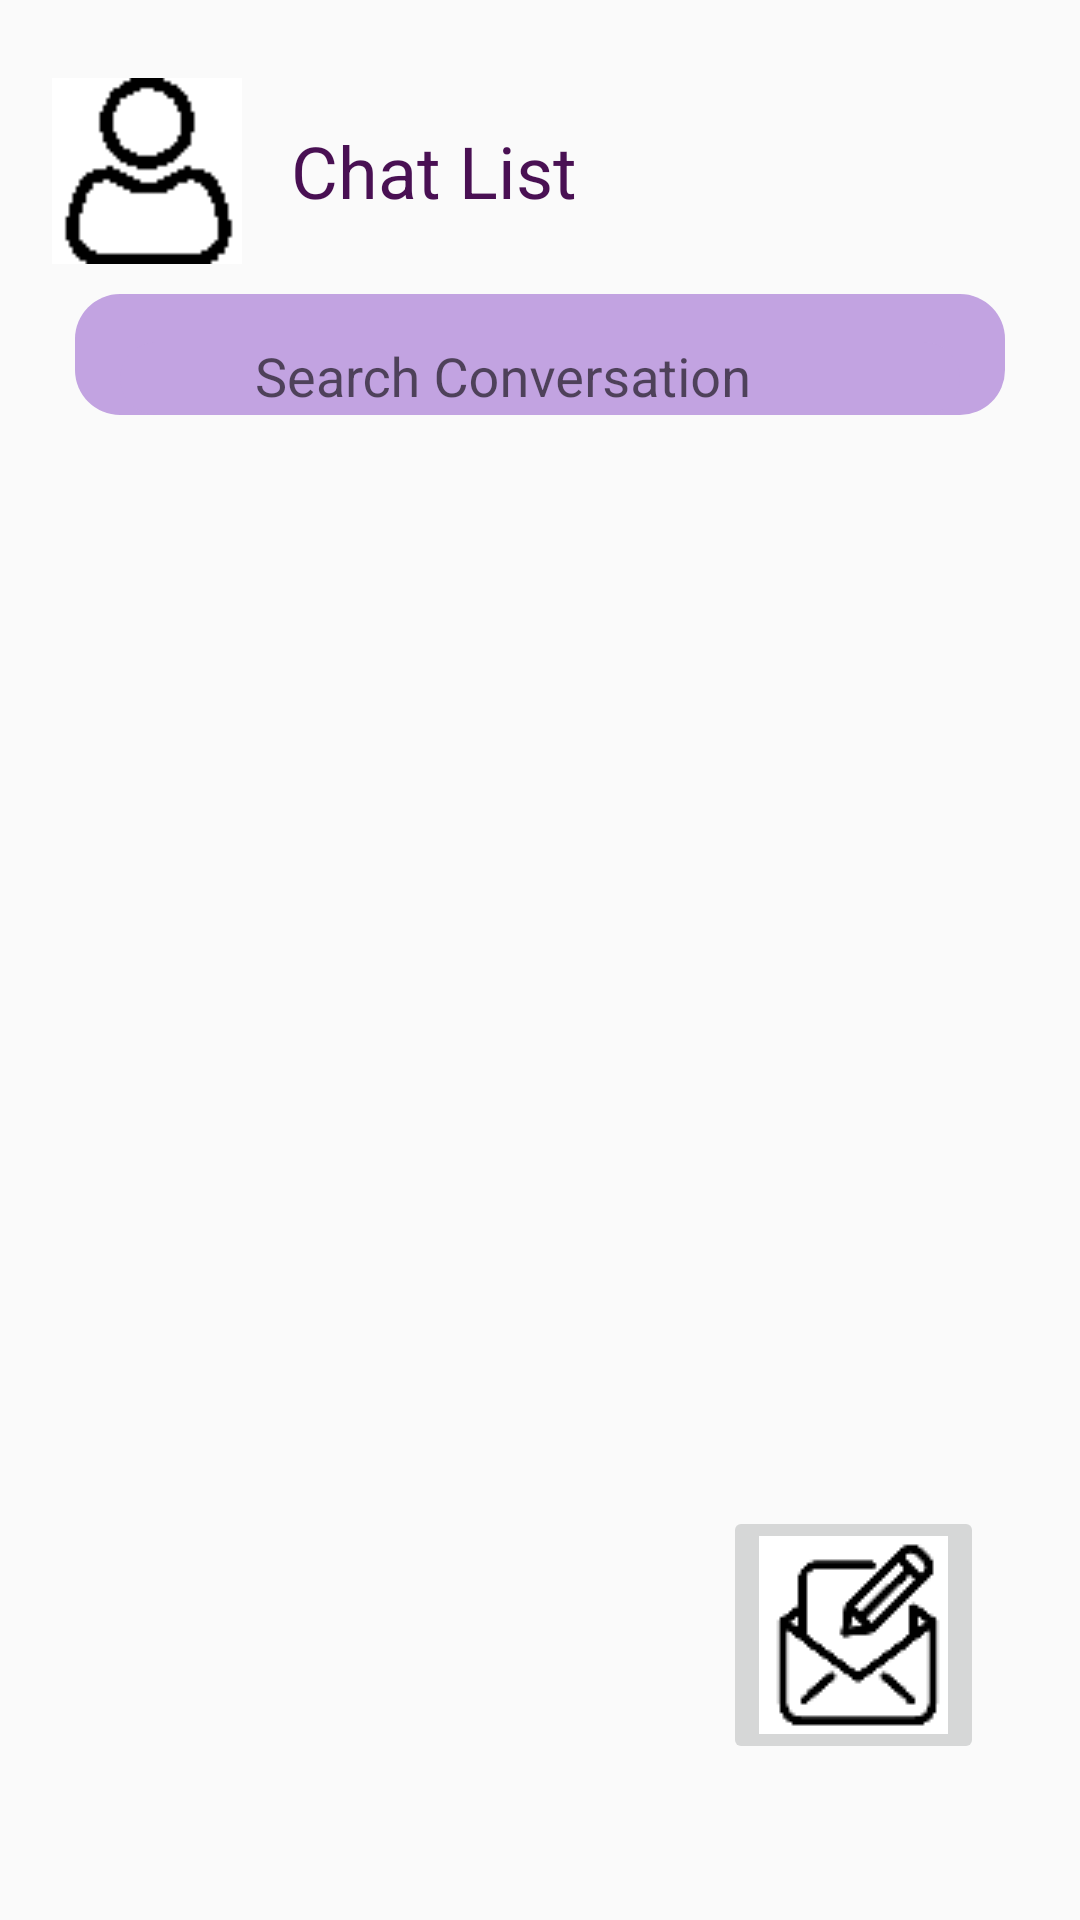

Where to tap for icons on this 1080px x 1920px app screen, as point (x, y):
profilepic: point (149, 171)
write: point (853, 1635)
